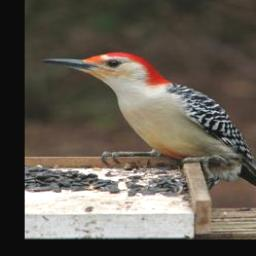Woodpecker: (41, 52, 256, 191)
